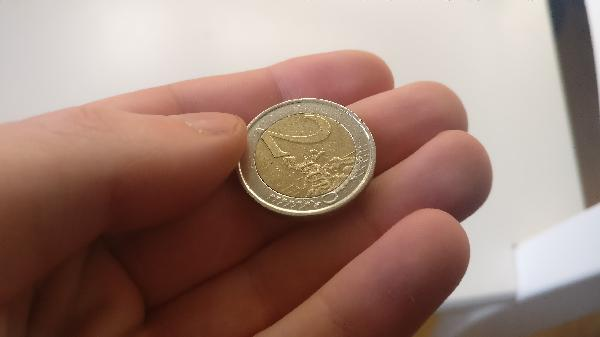Two Euro: (228, 96, 379, 215)
